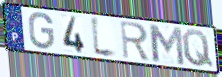4: (61, 14, 87, 55)
G: (27, 11, 56, 51)
L: (90, 15, 120, 62)
M: (147, 23, 187, 67)
Q: (180, 28, 215, 69)
R: (118, 19, 151, 62)
